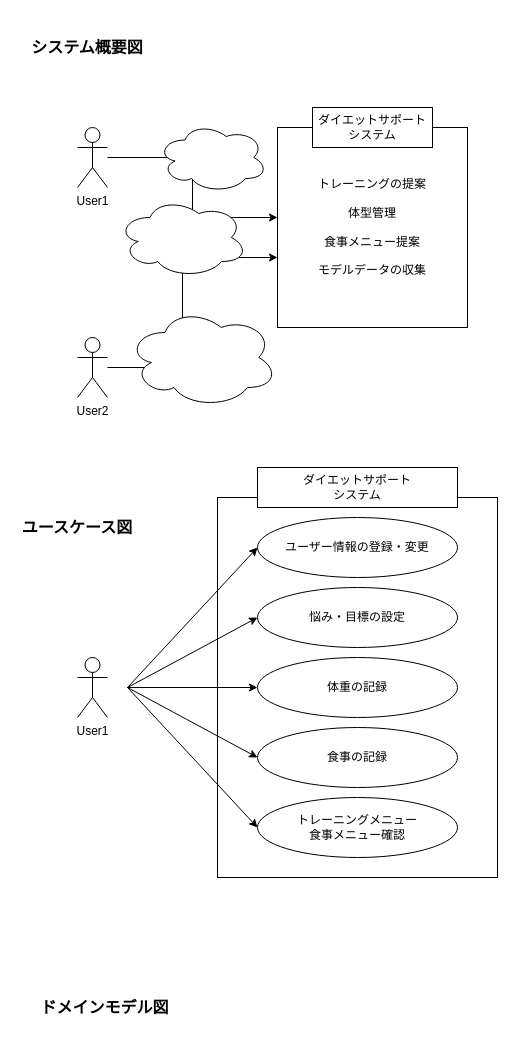
Some shapes in this 515 by 1054 pixel diagram are drawn without their labels. Here are the shapes that lost their labels. From the top down, the centre of each, then its label:
At point 212,157: "目標の設定".
At point 182,237: "アカウント登録".
At point 202,357: "設定変更 体重推移記録".
